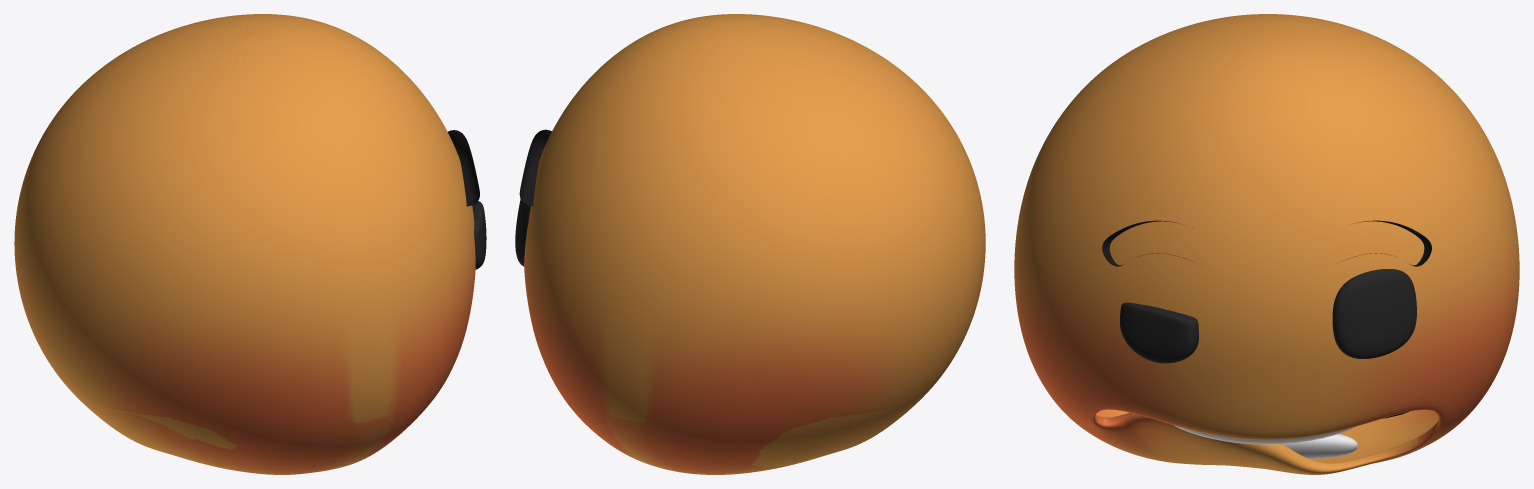
The model's file is biting.glb.
3 views of the same model, side by side, from view 1: azimuth 30°, elevation 25°; view 2: azimuth 150°, elevation 25°; view 3: azimuth 270°, elevation 25° (orthographic). The views are drawn at different scales.
Parts seen in each view (by area): view 1: Sphere.001, Circle.001, Sphere.004; view 2: Sphere.001, Circle.001, Sphere.004; view 3: Sphere.001, Sphere.004, Cube.004, Circle.001, Cube.003.
Part boxes in pixels (<box>): Sphere.001: <box>14,14,475,474</box>; Circle.001: <box>448,130,479,206</box>; Sphere.004: <box>472,201,486,269</box>; Sphere.001: <box>524,14,985,474</box>; Circle.001: <box>519,129,551,206</box>; Sphere.004: <box>515,199,530,266</box>; Sphere.001: <box>1014,14,1519,474</box>; Sphere.004: <box>1120,269,1416,363</box>; Cube.004: <box>1283,434,1358,458</box>; Circle.001: <box>1102,220,1431,266</box>; Cube.003: <box>1174,425,1355,444</box>.
Size of the model in its own units: 2.83 by 2.71 by 2.95.
4 materials, 1 textured.
